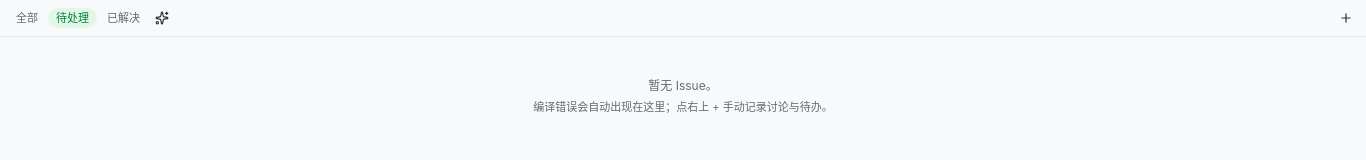
LatexIssues 错误展示与 AI 空内容防护 › 新增框收起时 AI 审阅抛错：全局 role=alert 显示错误文本，可手动关闭
Click the button with test id "latex-issue-ai": (162,18) [150,6,174,30]
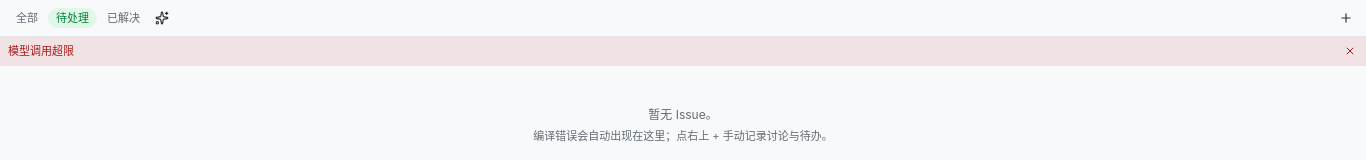
Now the message "模型调用超限" is shown, box [0,37,1365,66]
Now the button with test id "latex-issues-error-dismiss" is shown
Click the button with test id "latex-issues-error-dismiss": (1350,51) [1342,43,1358,59]
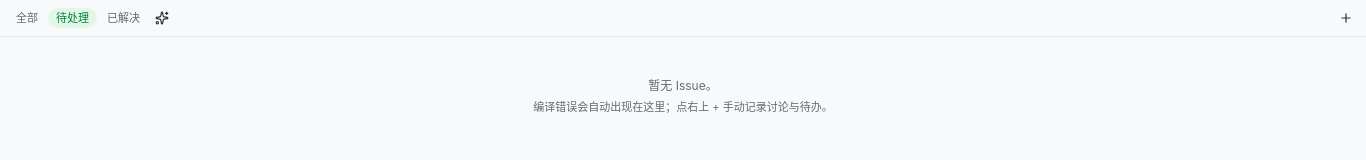
Now the message "模型调用超限" is gone
